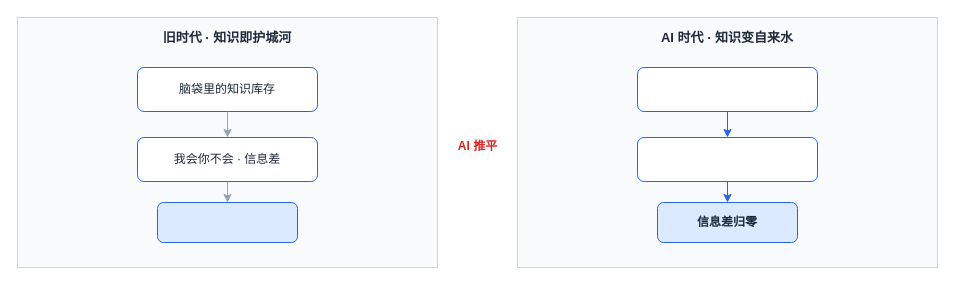
Some shapes in this 955 by 285 pixel diagram are drawn without their labels. Each missing label, with the centre of its shape:
= 工资差: the point at 227,222
人人都能问出答案: the point at 727,159
工具里随取随用: the point at 727,89
